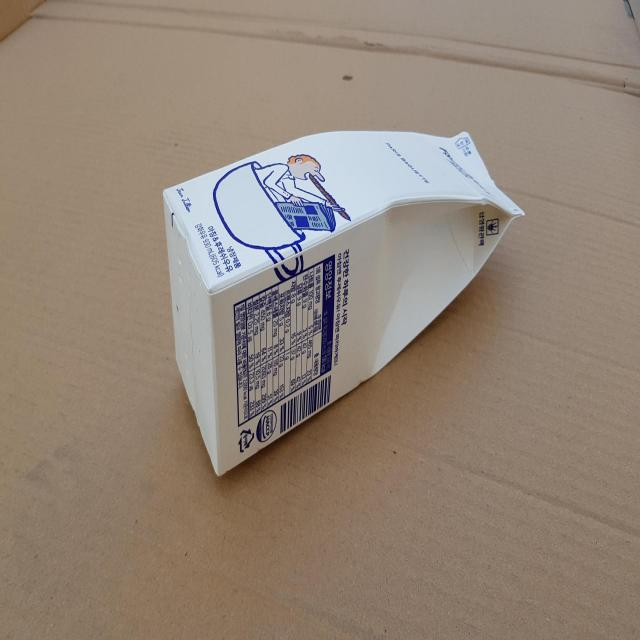paperpack: (163, 130, 524, 475)
